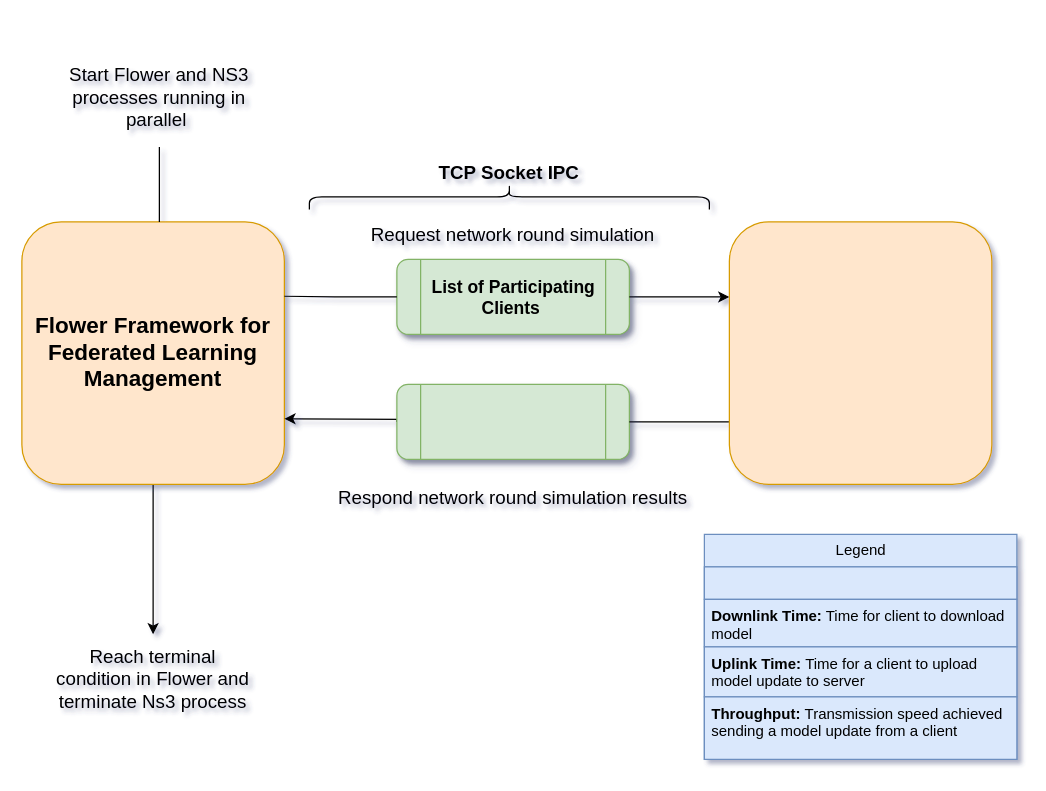
This 1046x791 diagram has some shape labels left out. Each missing label, with the centre of its shape:
Downlink Time Uplink Time Throuhput: point (514, 423)
IPC: Inter Process Communication: point (860, 582)
NS3 Network Simulator for Modeling Network Characteristics: point (860, 352)
